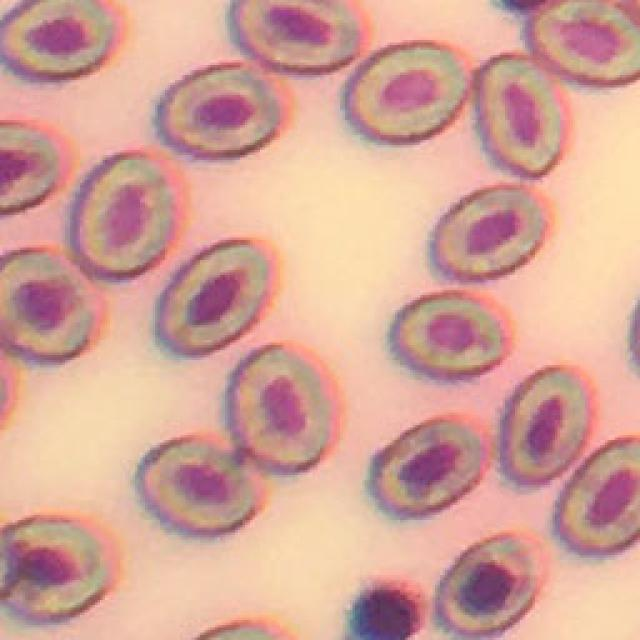RBC: (153, 62, 297, 163), (340, 39, 472, 147), (225, 344, 333, 476), (67, 152, 176, 282), (153, 238, 273, 356), (0, 515, 113, 629), (133, 437, 259, 538), (469, 52, 567, 181), (428, 185, 549, 285), (368, 419, 488, 518), (0, 246, 98, 365), (432, 534, 543, 639), (497, 367, 588, 487), (224, 0, 365, 77), (389, 291, 510, 380), (553, 435, 640, 557), (0, 0, 119, 85), (530, 0, 640, 83), (0, 120, 63, 218)
WBC: (346, 588, 422, 640)
